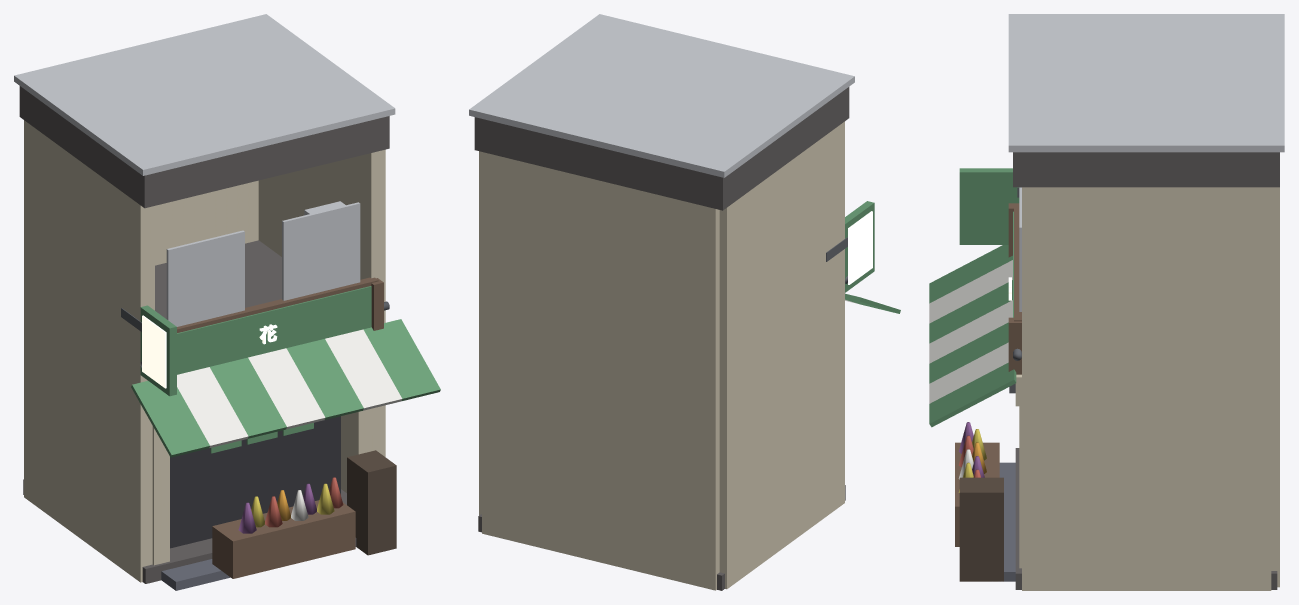
File: prop_shop_hanaya.glb
The picture shows the model from 3 angles, left to right: view 1: azimuth 30°, elevation 25°; view 2: azimuth 150°, elevation 25°; view 3: azimuth 270°, elevation 25°; orthographic projection. The views are drawn at different scales.
Parts seen in each view (by area): view 1: shop_hanaya; view 2: shop_hanaya; view 3: shop_hanaya.
Boxes of the visible parts, bbox=[...] form: shop_hanaya: bbox=[14, 14, 440, 590]; shop_hanaya: bbox=[469, 14, 900, 590]; shop_hanaya: bbox=[929, 14, 1284, 590].
Bounding box in the file's own units: 3.73 × 5.54 × 3.99.
